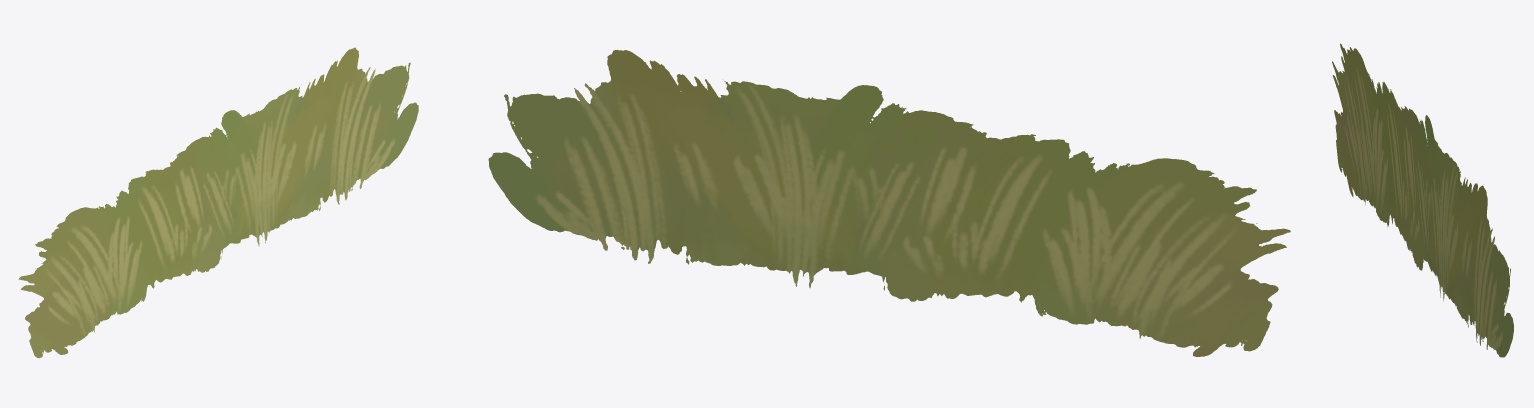
File: grass8_001.fbx
3 renders of one model, left to right at view 1: azimuth 30°, elevation 25°; view 2: azimuth 150°, elevation 25°; view 3: azimuth 270°, elevation 25°, orthographic. The views are drawn at different scales.
Visible parts, largest first — view 1: grass8.001; view 2: grass8.001; view 3: grass8.001.
Part boxes in pixels (box(x1,y1,x2,y2)): grass8.001: box(18, 47, 418, 358); grass8.001: box(488, 49, 1290, 356); grass8.001: box(1332, 43, 1513, 357).
Bounding box in the file's own units: 499 × 205 × 149.
